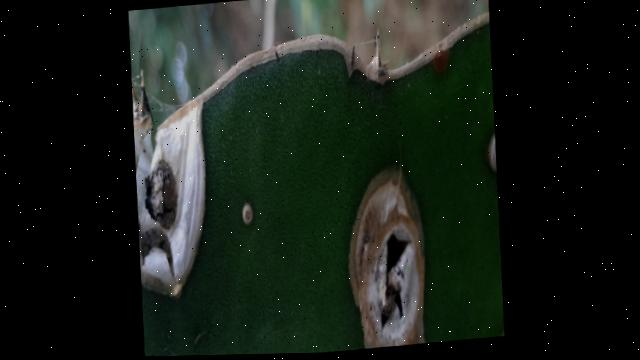stemcanker: (238, 198, 258, 228)
